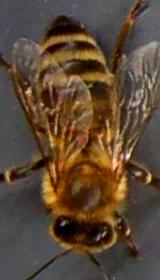varroa_mite: (66, 125, 94, 148)
